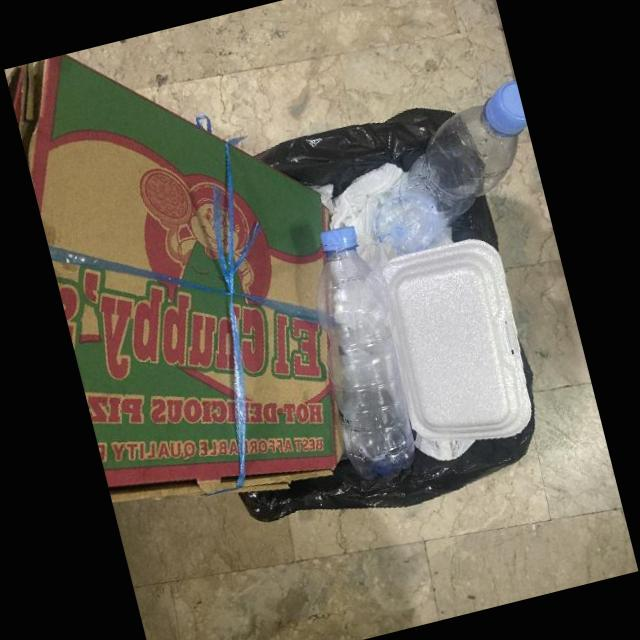carton: (6, 54, 343, 502)
chai_nhua_pet: (372, 80, 526, 255), (316, 226, 414, 479)
tui_ni_long: (306, 162, 407, 277), (414, 432, 475, 460)
xop: (378, 239, 531, 441)
